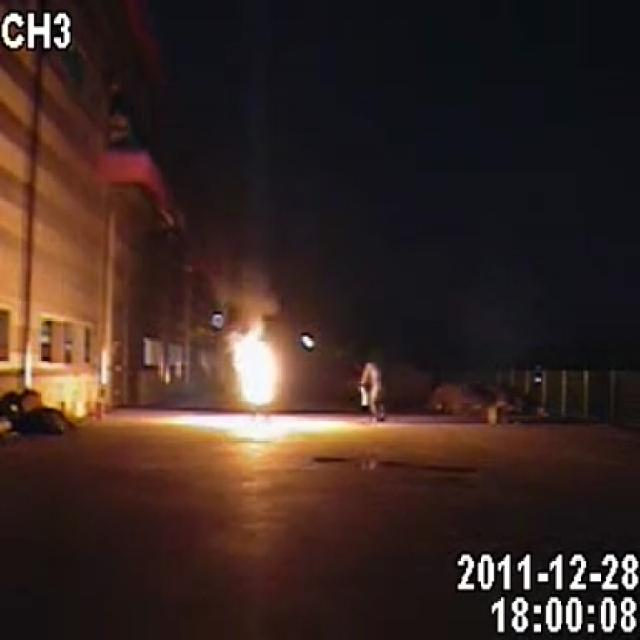Fire: (226, 313, 290, 411)
